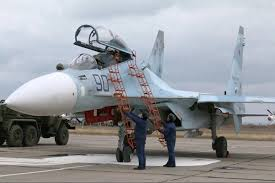maybay_muctieu: (3, 22, 275, 157)
